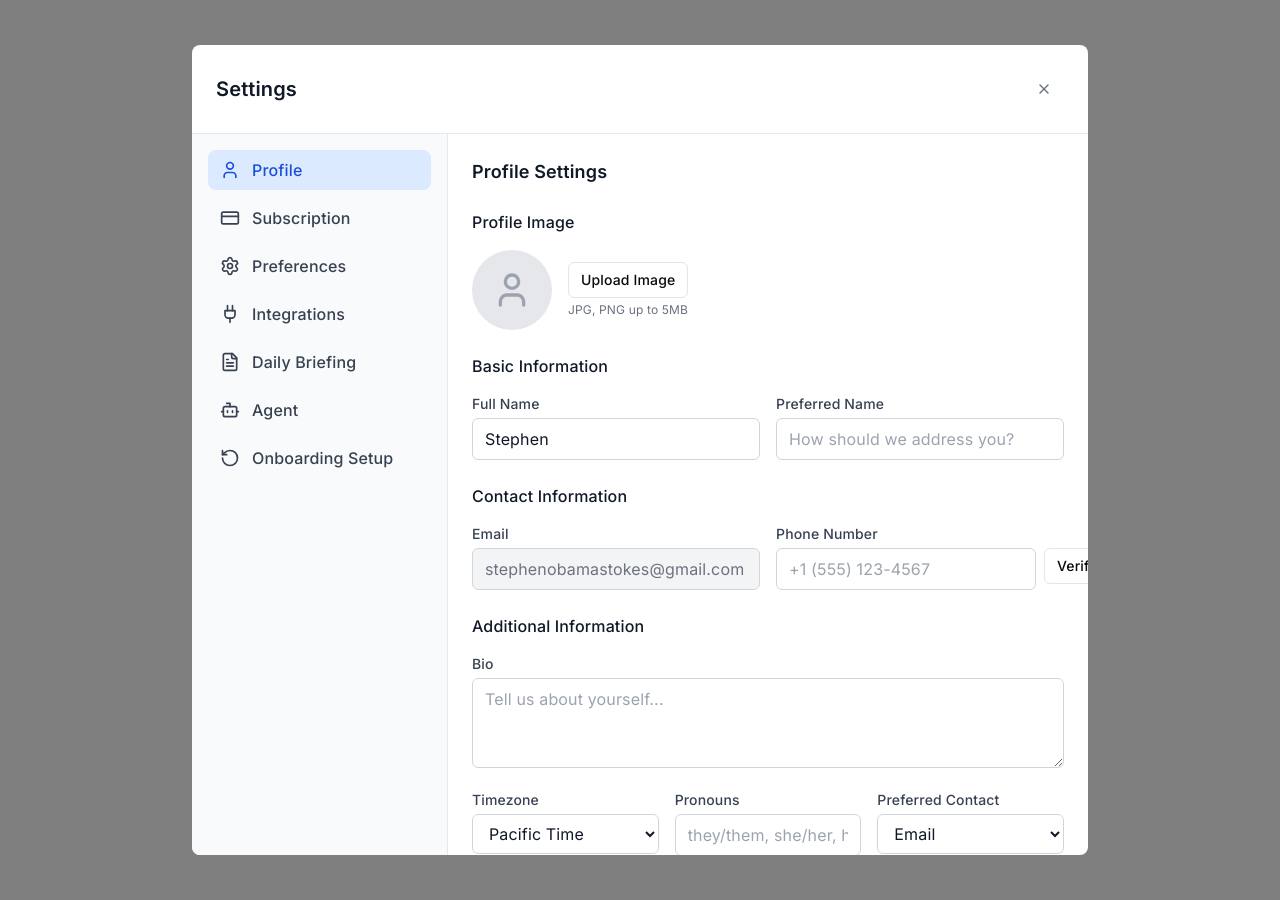
SettingsModal - Onboarding Setup Tab › renders onboarding setup tab
# Click on Onboarding Setup tab
Click the button "Onboarding Setup". click: {"x": 320, "y": 458}
box: [208,438,431,478]
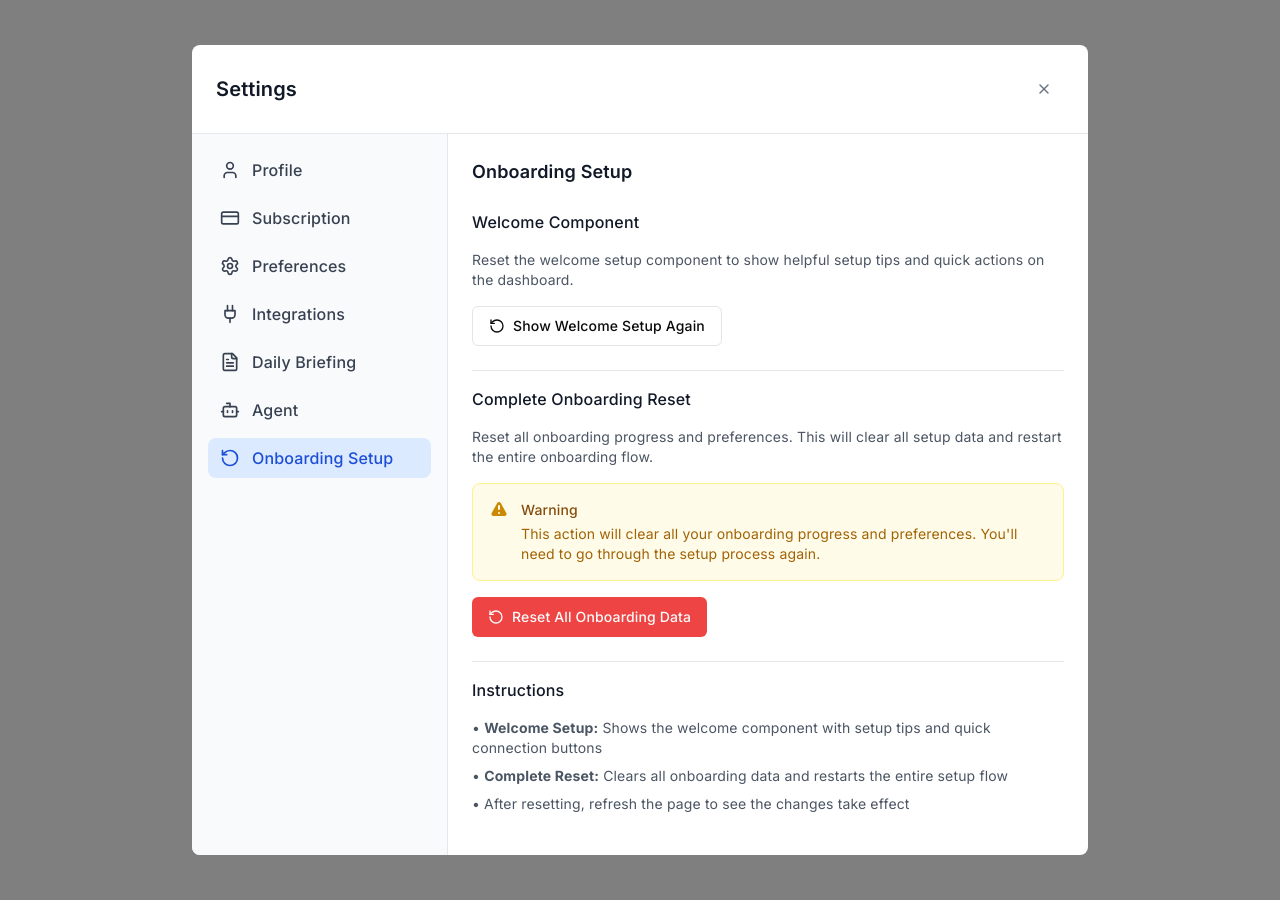
Now the heading "Welcome Component" is shown, box [472,212,639,232]
Now the heading "Complete Onboarding Reset" is shown, box [472,389,691,409]
